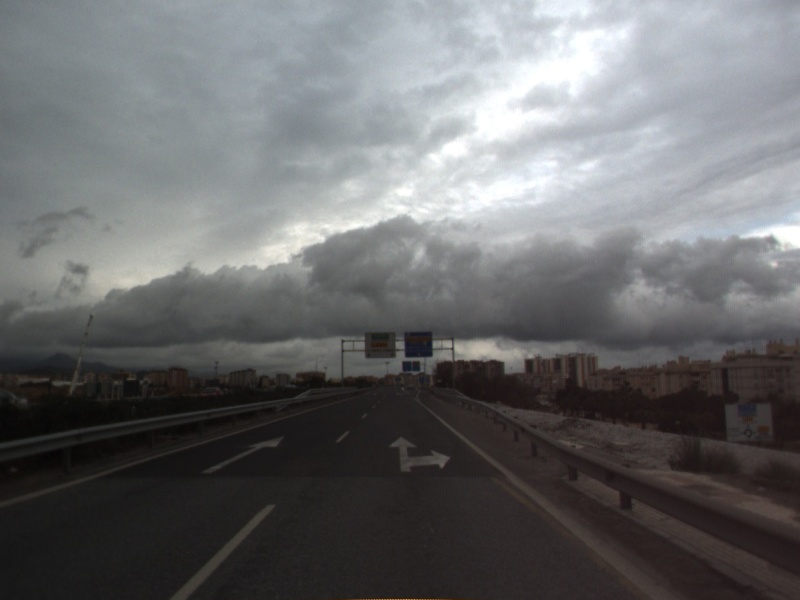STRAIGHT: (199, 434, 286, 476)
STRAIGHT_RIGHT: (386, 434, 453, 474)
